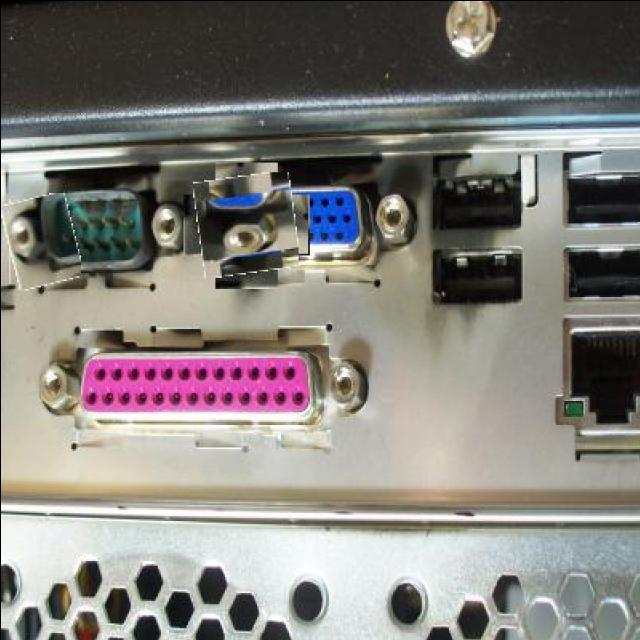Burn: (195, 172, 298, 274), (3, 194, 78, 286)
